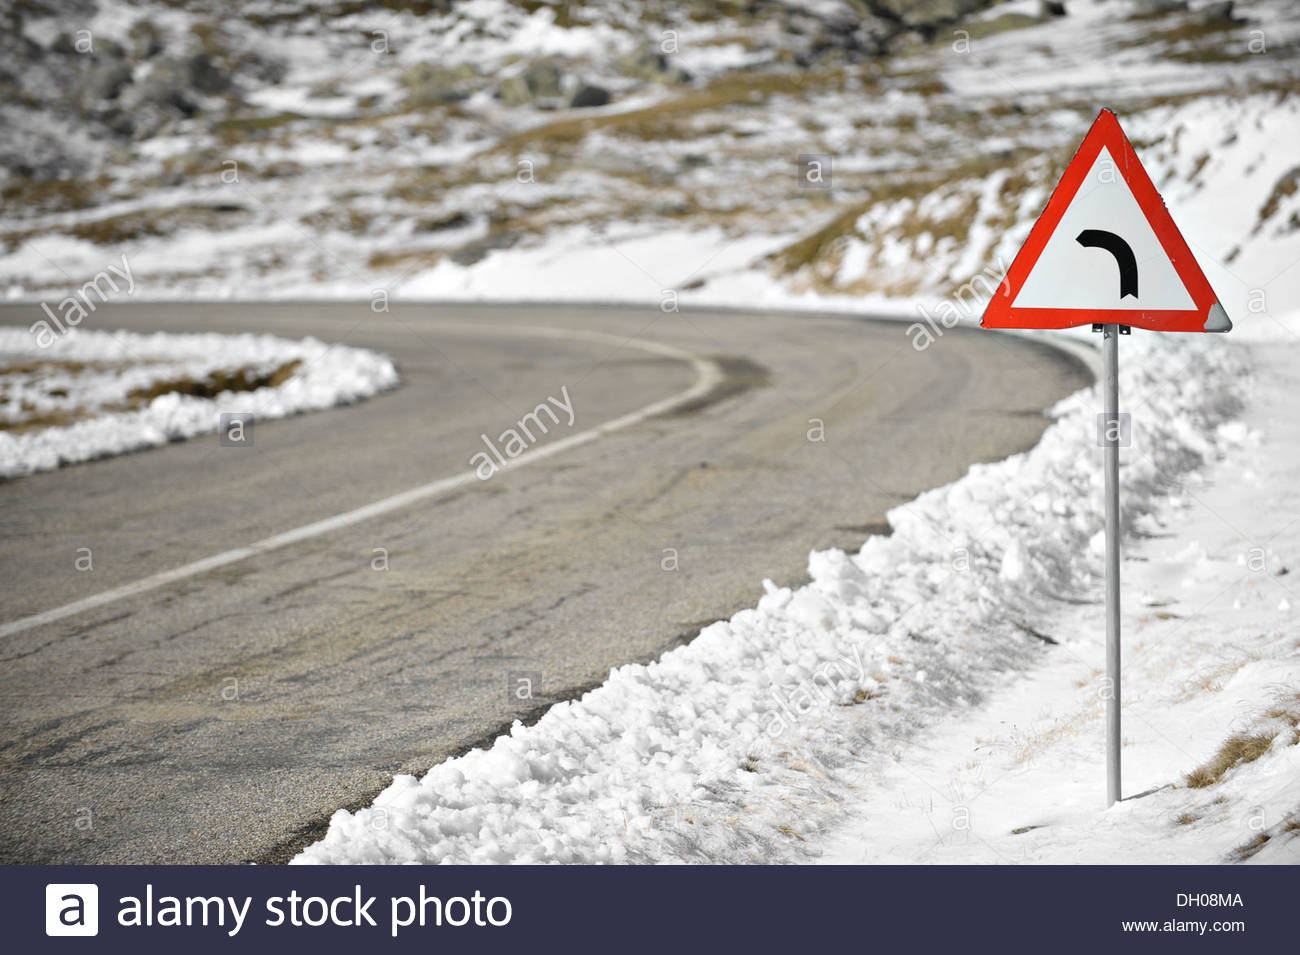Bend_to_left: (974, 107, 1236, 337)
